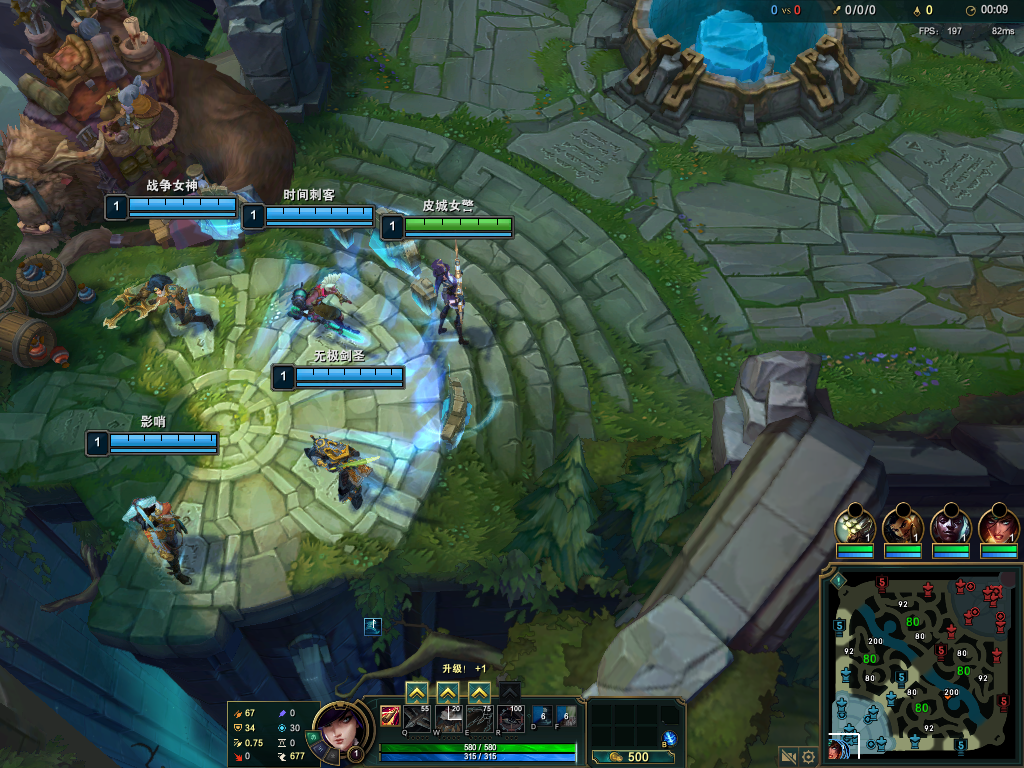Jidi: (2, 30, 265, 157)
Shenji: (438, 683, 457, 701), (407, 685, 426, 702), (468, 686, 487, 701)
WFSJ: (602, 23, 867, 135)
Yita: (954, 740, 966, 750)
